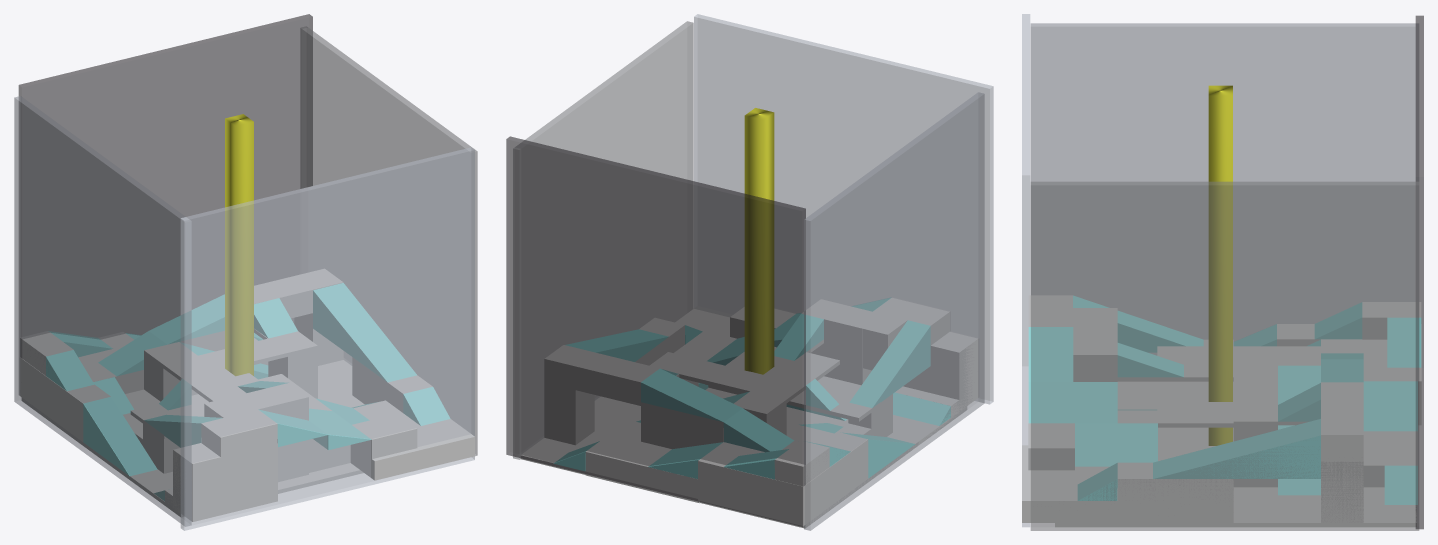
Rendered from level_stage2_col.glb.
3 renders of one model, left to right at view 1: azimuth 30°, elevation 25°; view 2: azimuth 150°, elevation 25°; view 3: azimuth 270°, elevation 25°, orthographic. The views are drawn at different scales.
Visible parts, largest first — view 1: col_平台.135, col_平台.137, col_平台.138, col_平台.136, col_平台.130, col_平台.116, ramp_平台.062, col_平台.126, ramp_平台.050, col_平台.099, col_平台.108, col_平台.128 (+29 smaller); view 2: col_平台.137, col_平台.135, col_平台.138, col_平台.136, col_平台.130, col_平台.125, col_平台.122, col_平台.099, col_平台.129, col_平台.128, ramp_平台.036, col_平台.108 (+26 smaller); view 3: col_平台.136, col_平台.138, col_平台.130, col_平台.122, ramp_平台.062, col_平台.126, col_平台.137, col_平台.135, ramp_平台.053, col_平台.115, col_平台.128, ramp_平台.044 (+33 smaller).
Part boxes in pixels (<box>): col_平台.135: <box>180,147,474,530</box>; col_平台.137: <box>18,14,312,394</box>; col_平台.138: <box>14,96,191,526</box>; col_平台.136: <box>300,26,477,455</box>; col_平台.130: <box>225,114,253,375</box>; col_平台.116: <box>173,443,277,521</box>; ramp_平台.062: <box>313,283,416,381</box>; col_平台.126: <box>351,400,474,480</box>; ramp_平台.050: <box>83,397,157,475</box>; col_平台.099: <box>20,357,110,441</box>; col_平台.108: <box>239,383,308,481</box>; col_平台.128: <box>254,269,343,314</box>; col_平台.137: <box>506,136,805,526</box>; col_平台.135: <box>694,14,993,404</box>; col_平台.138: <box>804,92,984,530</box>; col_平台.136: <box>513,21,693,459</box>; col_平台.130: <box>744,108,774,374</box>; col_平台.125: <box>585,420,699,503</box>; col_平台.122: <box>520,390,919,528</box>; col_平台.099: <box>775,432,868,525</box>; col_平台.129: <box>714,441,847,525</box>; col_平台.128: <box>544,345,659,401</box>; ramp_平台.036: <box>850,320,930,407</box>; col_平台.108: <box>802,299,881,384</box>; col_平台.136: <box>1030,181,1419,530</box>; col_平台.138: <box>1030,23,1418,354</box>; col_平台.130: <box>1208,85,1232,445</box>; col_平台.122: <box>1159,428,1416,527</box>; ramp_平台.062: <box>1153,419,1320,478</box>; col_平台.126: <box>1022,445,1157,522</box>; col_平台.137: <box>1415,15,1423,529</box>; col_平台.135: <box>1022,14,1030,527</box>; ramp_平台.053: <box>1028,382,1117,423</box>; col_平台.115: <box>1158,479,1233,527</box>; col_平台.128: <box>1321,382,1363,456</box>; ramp_平台.044: <box>1364,381,1417,430</box>.
Bounding box in the file's own units: 81.49 × 87.37 × 82.71.
